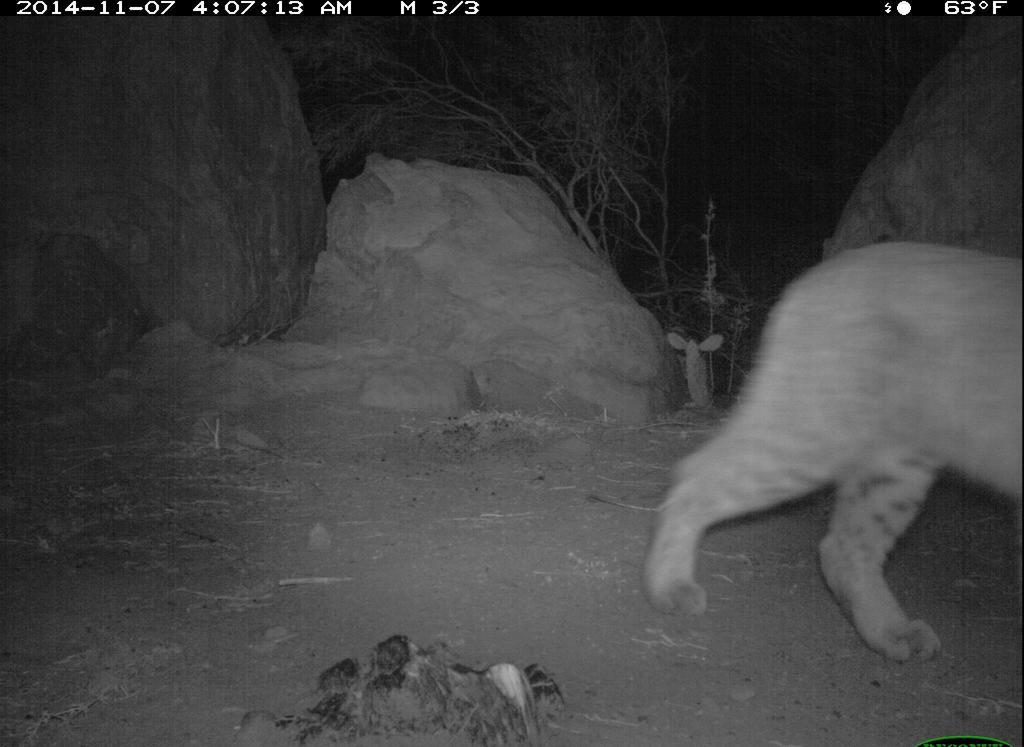bobcat: (629, 227, 1023, 679)
